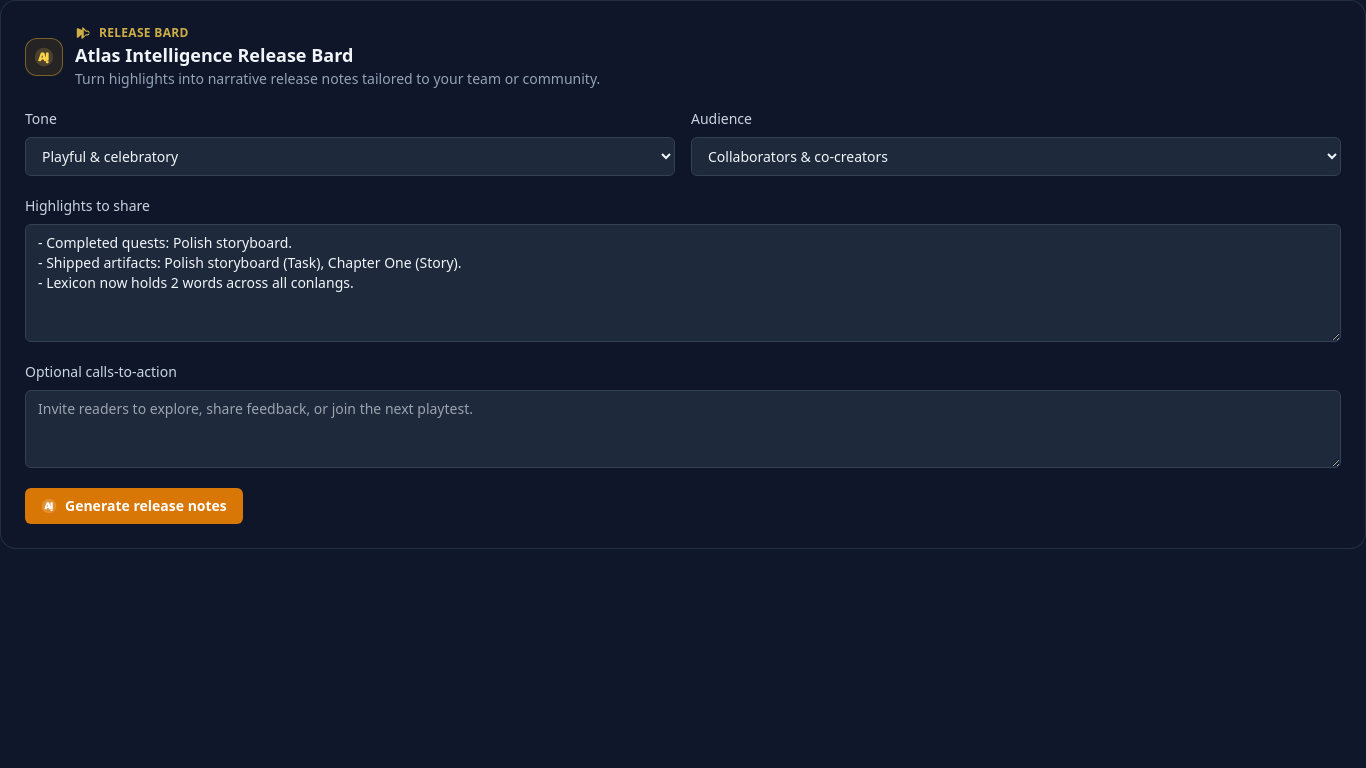
it: ReleaseNotesGenerator › generates release notes and rewards XP
Click the button "Generate release notes" at (134, 506), box [25,488,243,524]
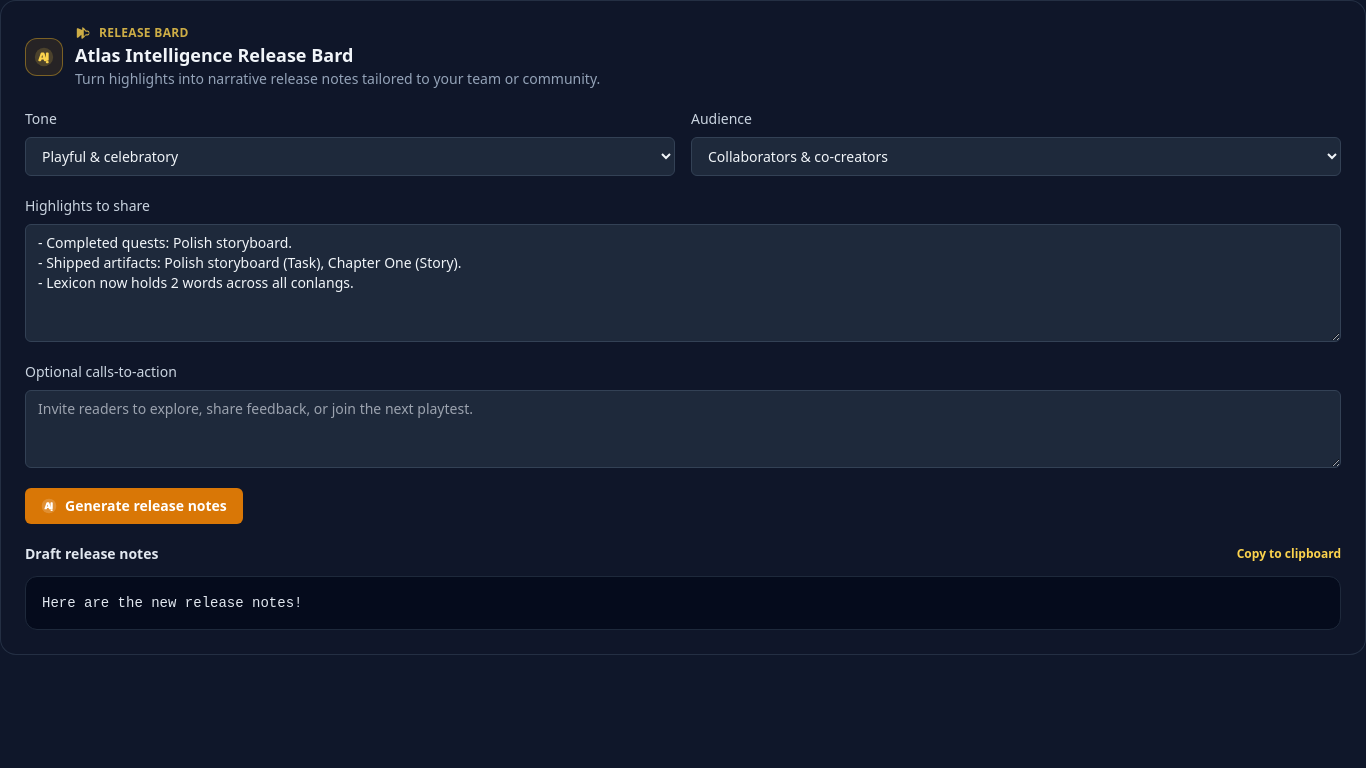
Check: the text "Here are the new release notes!" is shown, box [25,576,1341,630]
